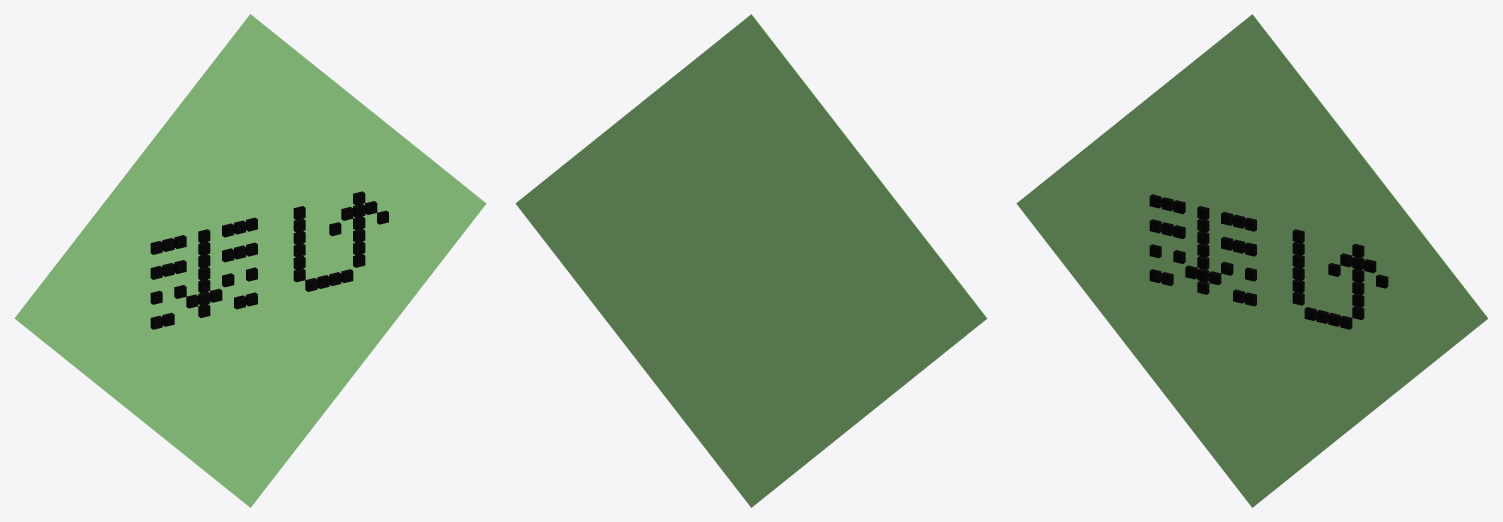
The model's file is ClearMyGravity.fbx.
3 renders of one model, left to right at view 1: azimuth 30°, elevation 25°; view 2: azimuth 150°, elevation 25°; view 3: azimuth 330°, elevation 25°, orthographic.
Parts seen in each view (by area): view 1: Cube.024; view 2: Cube.024; view 3: Cube.024.
Boxes of the visible parts, x1,y1,x2,y2 form: Cube.024: [14, 14, 486, 507]; Cube.024: [515, 14, 987, 507]; Cube.024: [1016, 14, 1488, 507].
Size of the model in its own units: 198 by 198 by 2.1.
